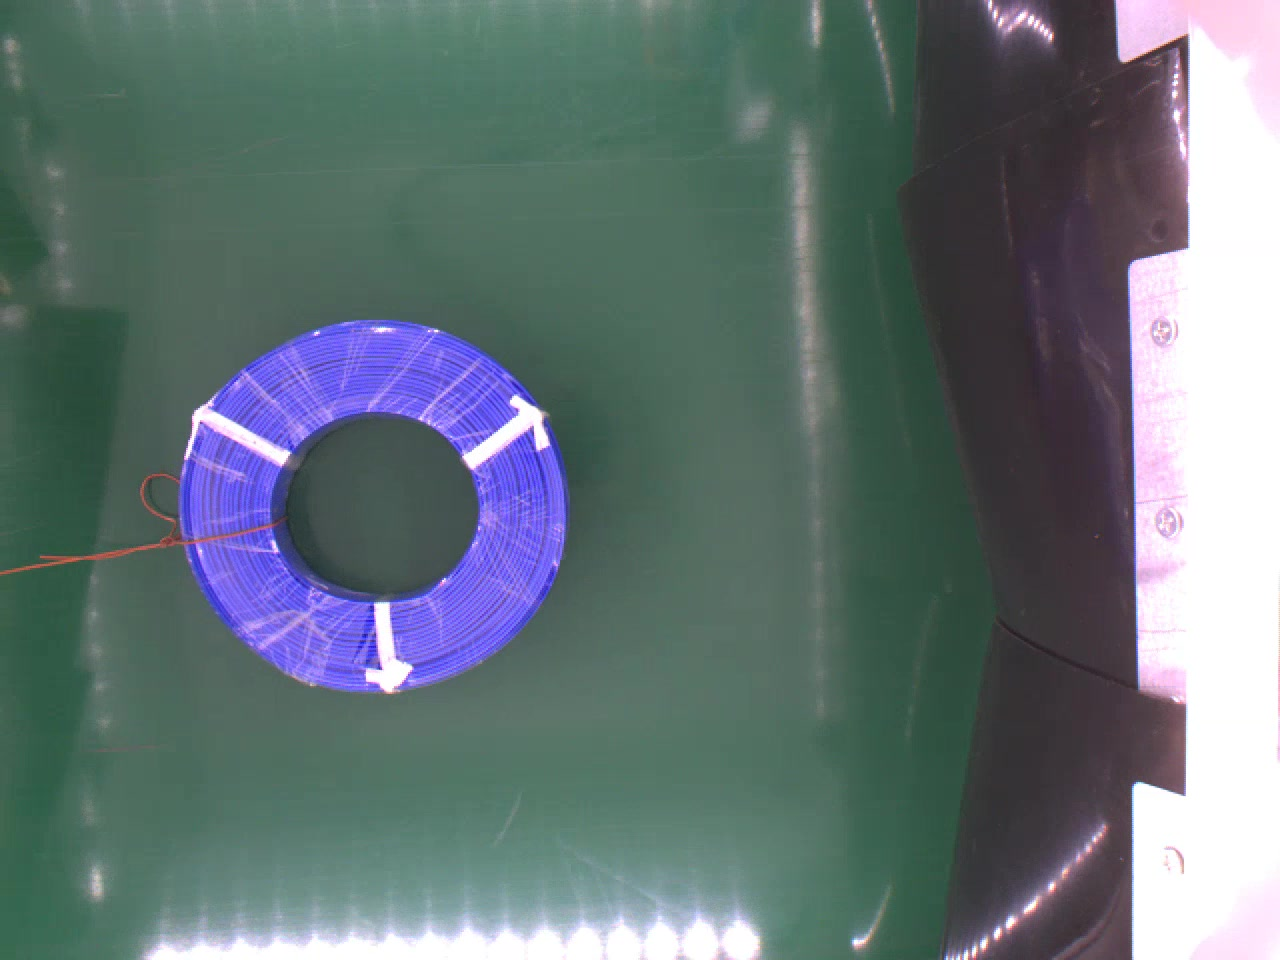blue: (173, 307, 572, 701)
